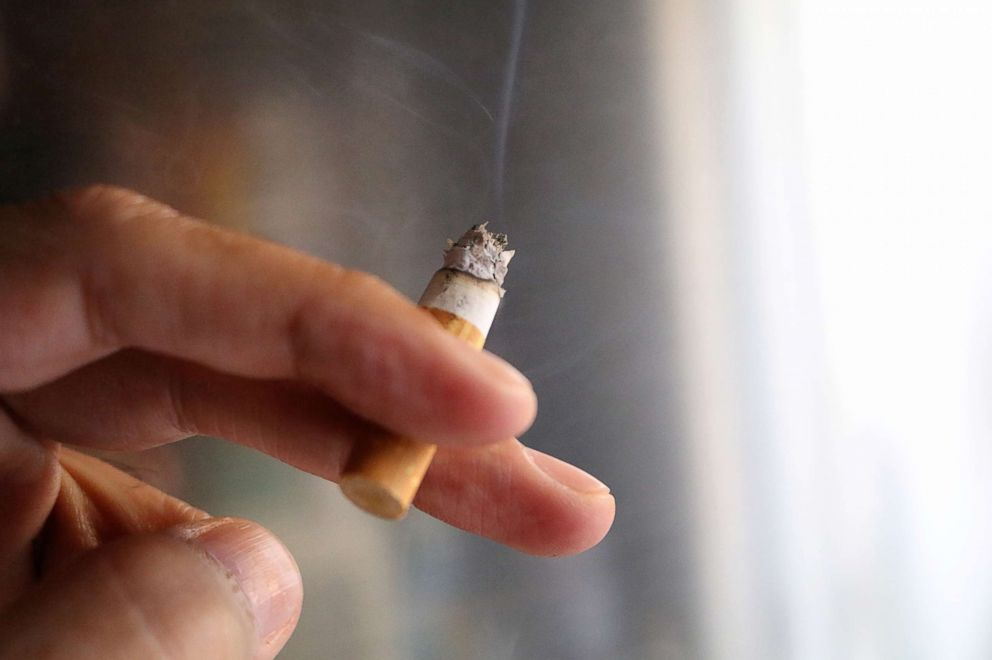cigarette: (347, 184, 520, 537)
